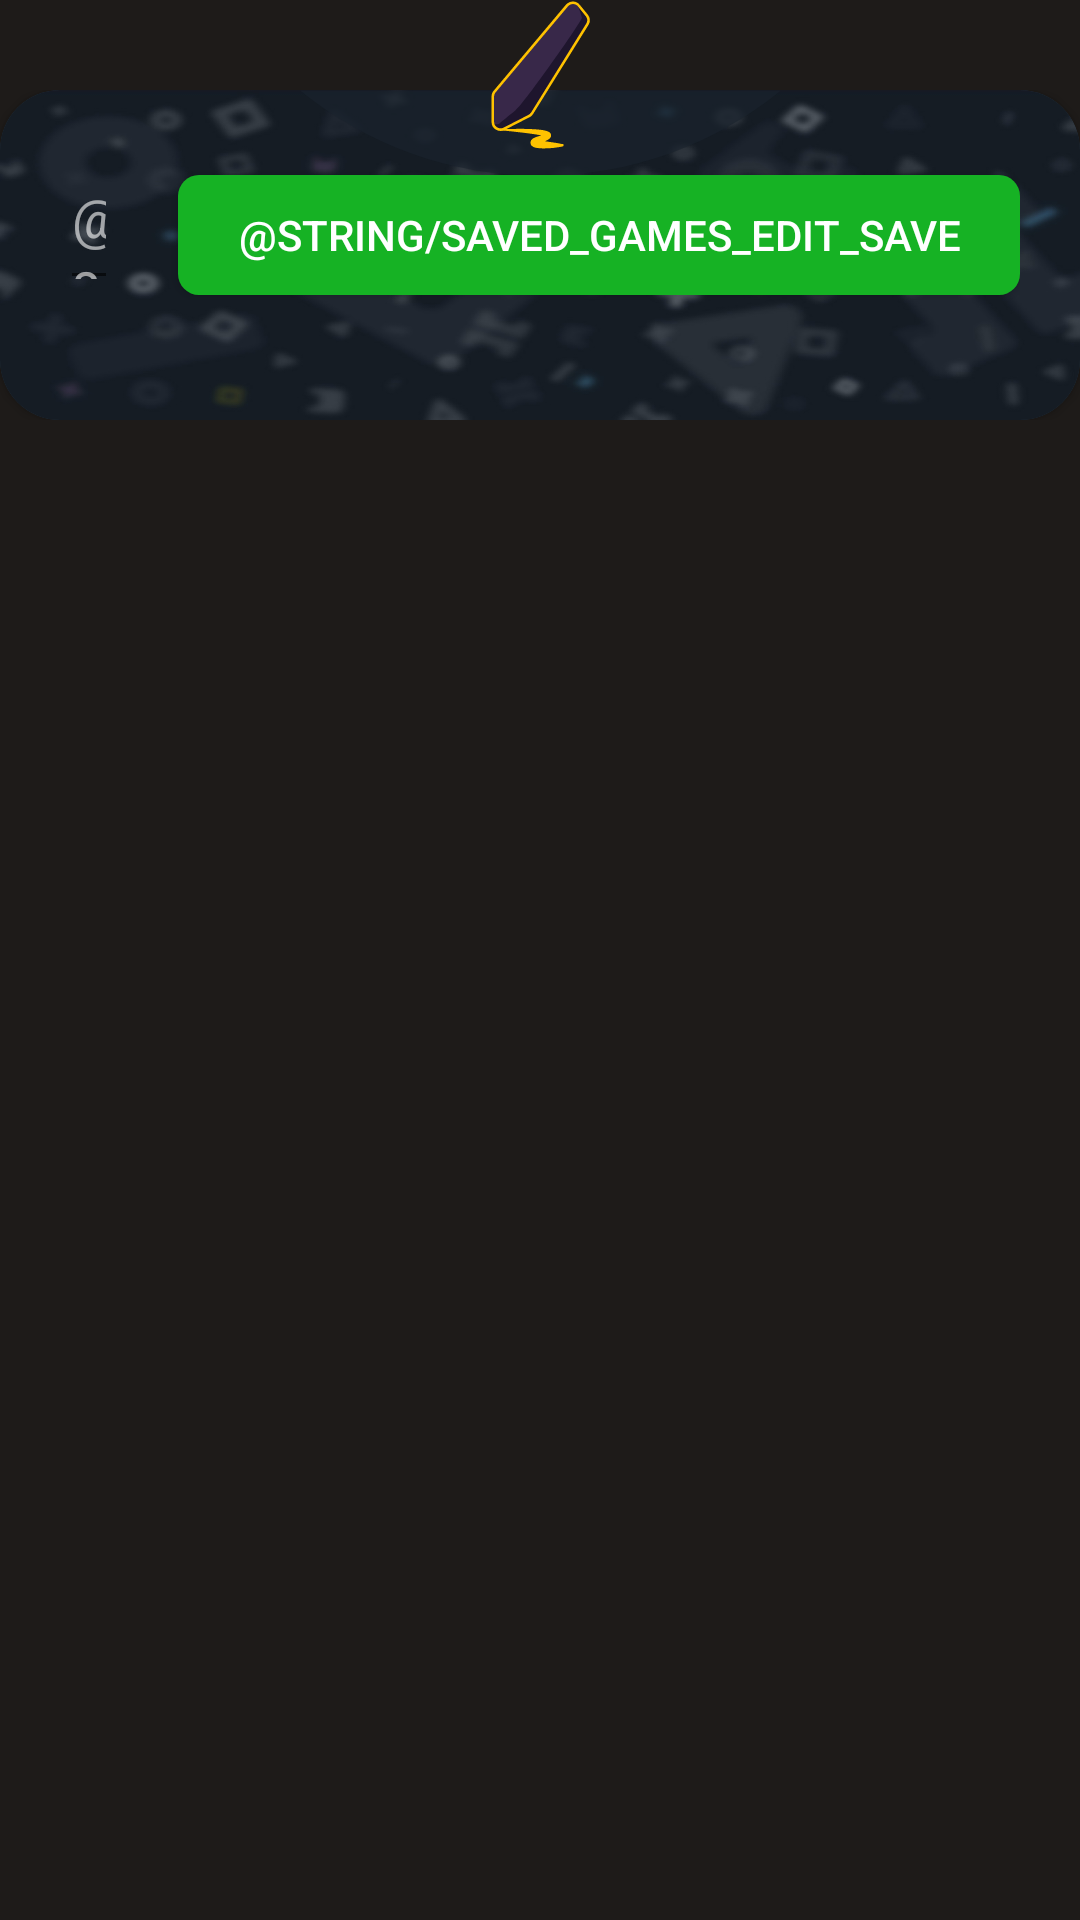

Icon click points for this 1080 × 1920 phone screenshot, format [x,y]:
saved game edit popup: [540,75]
